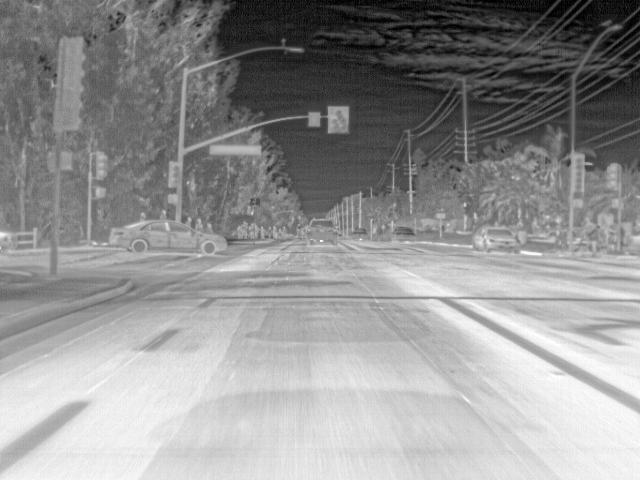car: (109, 218, 230, 256), (472, 225, 523, 253), (305, 218, 339, 244), (1, 229, 17, 255), (393, 227, 416, 244), (353, 228, 367, 241)
person: (242, 218, 251, 240), (251, 223, 258, 240), (160, 208, 168, 220), (196, 218, 203, 230), (257, 224, 264, 236), (186, 215, 193, 226), (140, 211, 148, 220), (206, 221, 212, 232)
